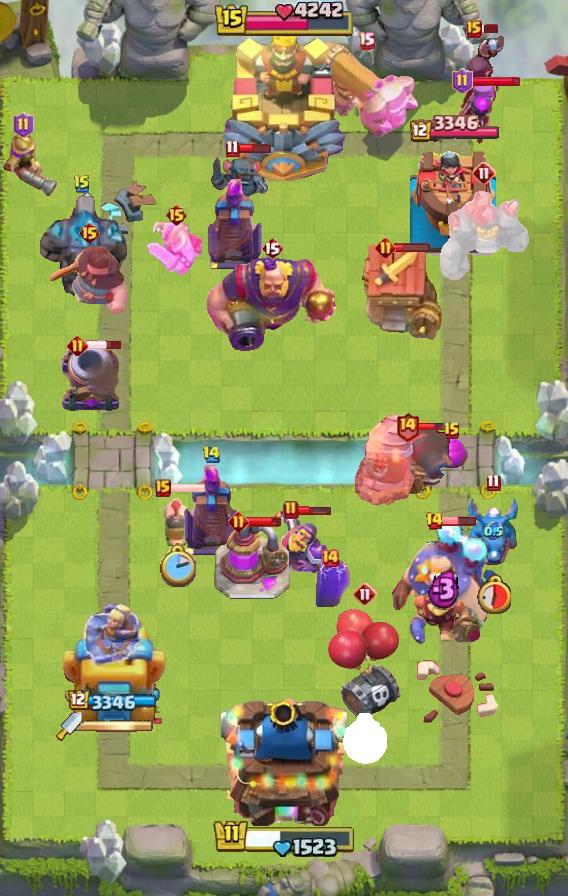bar: (59, 595, 169, 731)
battle-ram: (210, 152, 270, 202)
bomb-tower: (0, 128, 58, 198)
cannoneer-tower: (37, 193, 127, 297), (436, 187, 532, 283)
clock: (212, 815, 356, 857), (213, 0, 355, 40)
electro-spirit: (427, 568, 461, 610), (484, 523, 503, 541)
elixir: (343, 713, 387, 764), (158, 543, 196, 587), (476, 574, 511, 614)
emote: (470, 76, 521, 89), (86, 339, 123, 351), (170, 482, 207, 494), (236, 142, 272, 154), (441, 515, 477, 527), (246, 516, 282, 528), (393, 243, 430, 254), (296, 504, 332, 515), (417, 422, 451, 432), (480, 22, 500, 34)
executioner: (162, 492, 192, 548)
fireball: (407, 586, 485, 646)
firecracker-evolution: (272, 507, 331, 574)
furnace: (311, 41, 421, 147)
goblin-cage: (58, 344, 122, 414)
goblin-giant: (146, 221, 206, 277)
graveyard: (466, 495, 520, 569)
ice-spirit-evolution-symbol: (205, 179, 265, 271), (181, 465, 241, 557)
king-tower: (220, 21, 348, 181), (221, 690, 347, 826)
king-tower-bar: (82, 719, 154, 733)
lightning: (203, 255, 341, 351)
little-prince: (390, 518, 498, 644)
magic-archer: (355, 414, 415, 506)
miner: (436, 438, 468, 468)
pekka: (214, 519, 292, 601)
queen-tower: (410, 144, 496, 255)
rascal-boy: (460, 33, 506, 121)
rascal-girl: (452, 77, 502, 147)
royal-giant-evolution: (389, 430, 457, 500)
royal-hog: (46, 243, 132, 315)
royal-recruit-evolution: (326, 606, 404, 722)
selected: (407, 115, 499, 144), (69, 690, 159, 714)
sparky: (356, 244, 442, 342)
spear-goblin: (310, 557, 350, 607)
text: (396, 410, 421, 441), (472, 161, 496, 185), (353, 582, 377, 606), (164, 203, 187, 227), (79, 221, 102, 245), (451, 68, 472, 94), (14, 112, 35, 138), (261, 236, 283, 260), (67, 336, 89, 357), (375, 238, 396, 259), (227, 511, 248, 532), (320, 548, 340, 568), (425, 511, 444, 531), (202, 444, 221, 463), (73, 174, 91, 194), (443, 421, 461, 441), (357, 31, 375, 49), (283, 500, 299, 520), (466, 20, 482, 38), (155, 479, 171, 497), (225, 139, 240, 158), (486, 472, 501, 491)
